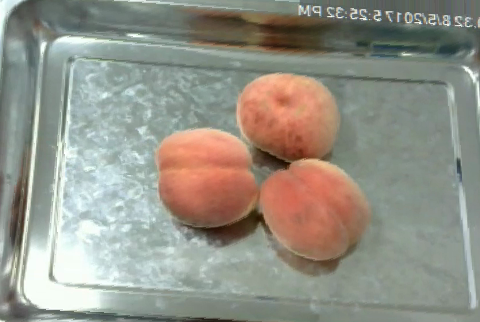Peach: (259, 159, 370, 260), (156, 126, 257, 228), (235, 71, 339, 160)
